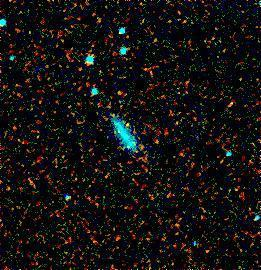star: (114, 109, 144, 139)
